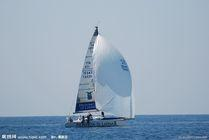fanchuan: (65, 24, 134, 129)
